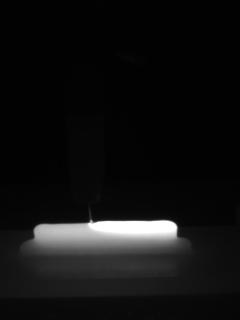tip_wire_left: (72, 200, 93, 223)
tip_wire_right: (90, 198, 103, 224)
